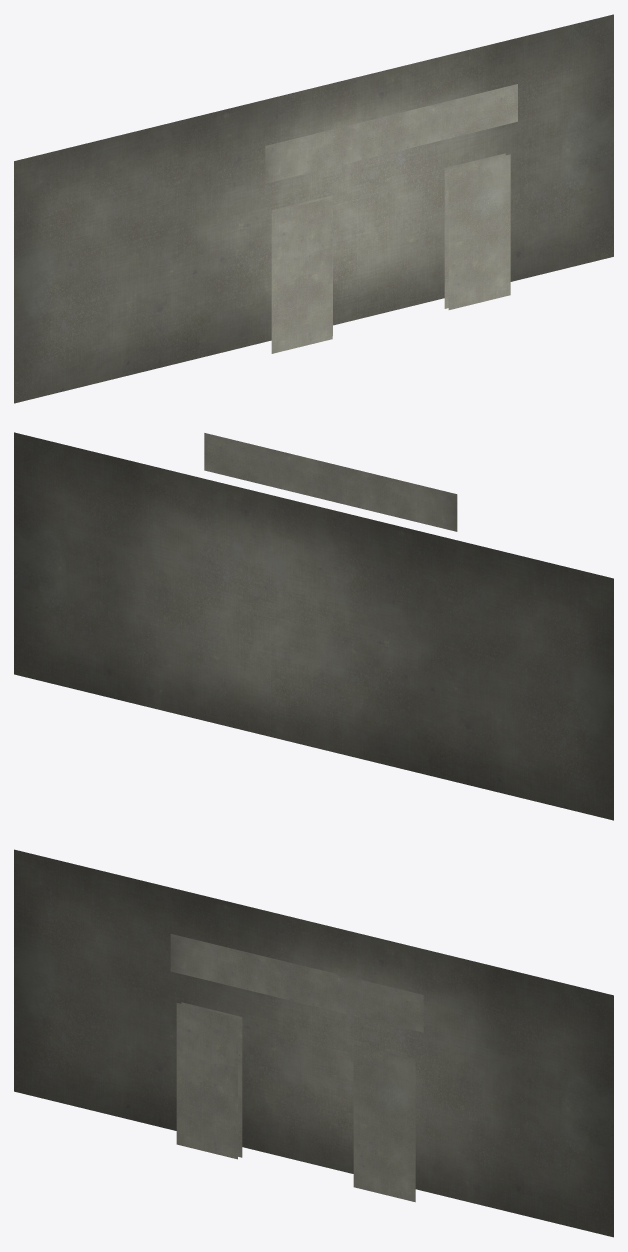
File: TraditionalKoreanHouse_PassageWallPaper.fbx
The picture shows the model from 3 angles, top to bottom: view 1: azimuth 30°, elevation 25°; view 2: azimuth 150°, elevation 25°; view 3: azimuth 330°, elevation 25°; orthographic projection.
Parts seen in each view (by area): view 1: TraditionalKoreanHouse_PassageWallPaper; view 2: TraditionalKoreanHouse_PassageWallPaper; view 3: TraditionalKoreanHouse_PassageWallPaper.
Boxes of the visible parts, x1=… form: TraditionalKoreanHouse_PassageWallPaper: x1=14, y1=14, x2=613, y2=403; TraditionalKoreanHouse_PassageWallPaper: x1=14, y1=432, x2=613, y2=820; TraditionalKoreanHouse_PassageWallPaper: x1=14, y1=849, x2=613, y2=1237.
Bounding box in the file's own units: 681 × 263 × 93.61.
